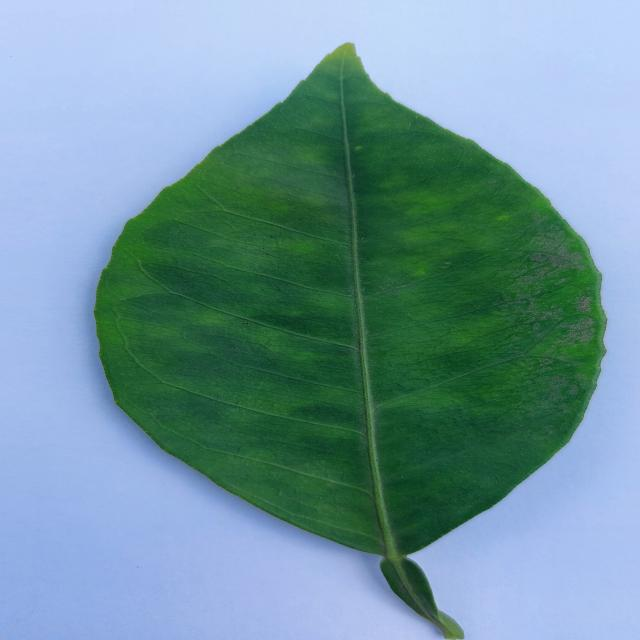greening: (96, 44, 603, 638)
